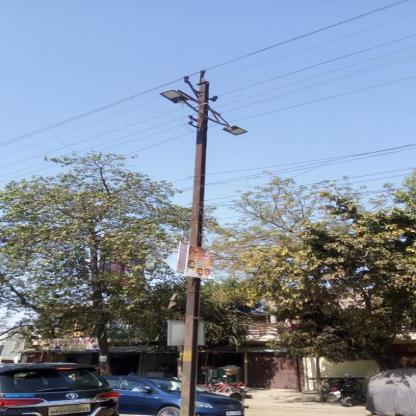Electrical Pole: (142, 63, 255, 415)
